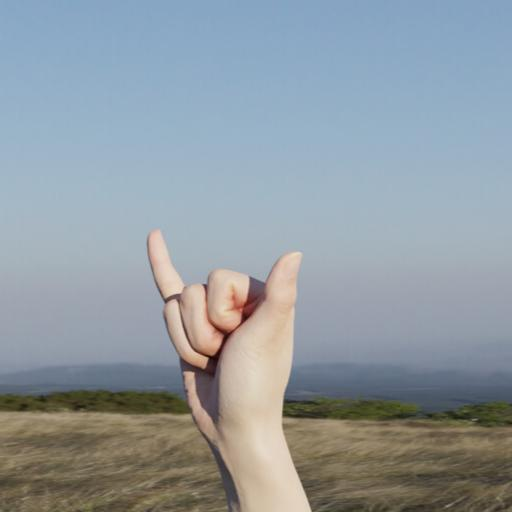Y: (132, 222, 329, 466)
